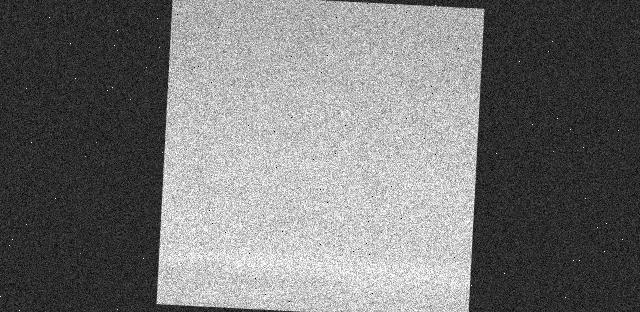silk_spot: (160, 45, 415, 244)
